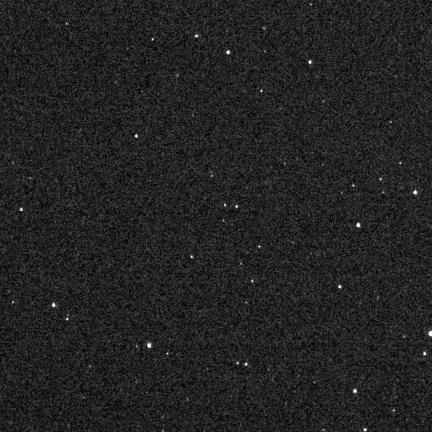blob: (147, 343, 152, 349), (429, 331, 432, 337), (353, 389, 357, 393), (195, 34, 199, 38), (245, 363, 249, 367), (191, 255, 194, 260), (224, 203, 227, 208), (352, 184, 355, 188), (20, 208, 23, 212), (235, 206, 239, 209), (423, 352, 426, 356), (52, 303, 55, 307), (357, 223, 360, 227), (135, 135, 139, 138), (66, 318, 70, 321), (414, 190, 417, 194), (227, 50, 230, 54), (152, 38, 155, 41), (380, 178, 383, 181), (338, 285, 341, 288), (260, 90, 263, 93), (252, 280, 254, 284), (309, 60, 311, 64), (258, 246, 261, 248)
